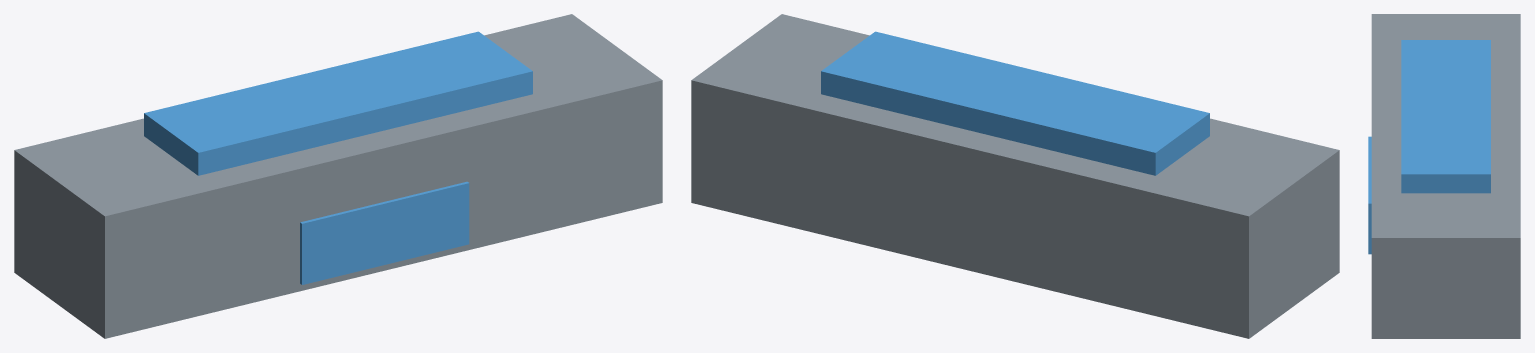
Rendered from AL_ResoluteDestroyer_LOD0.glb.
3 renders of one model, left to right at view 1: azimuth 30°, elevation 25°; view 2: azimuth 150°, elevation 25°; view 3: azimuth 270°, elevation 25°, orthographic. The views are drawn at different scales.
Parts seen in each view (by area): view 1: EntranceGate; view 2: EntranceGate; view 3: EntranceGate.
Boxes of the visible parts, <box> form: EntranceGate: <box>14,14,662,338</box>; EntranceGate: <box>691,14,1339,338</box>; EntranceGate: <box>1368,14,1520,338</box>.
Size of the model in its own units: 1600 by 399 by 460.
